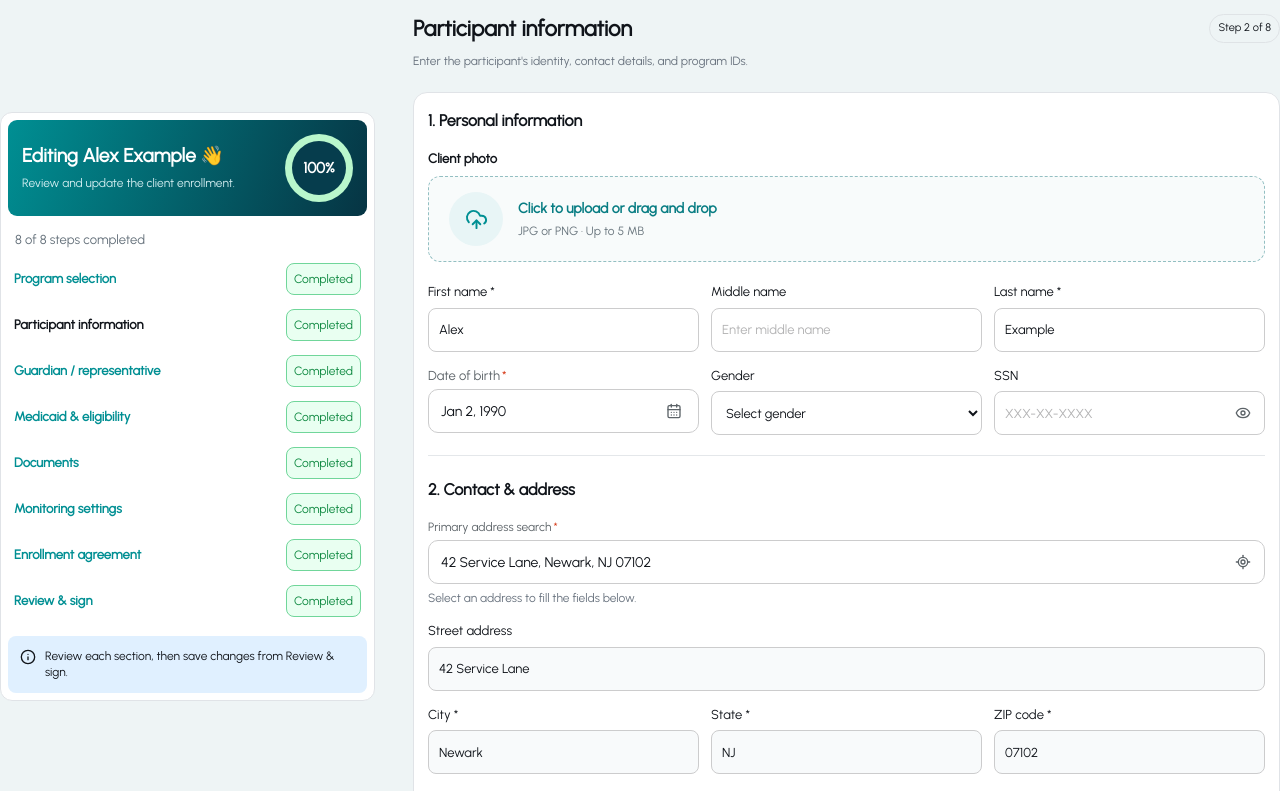
Scenario: edit wizard loads saved fields and preserves outcome services and status
Earlier steps of the test are not shown.
Later steps or results of the test are not shown.
Click the button "Guardian / representative Completed" at x=87, y=370, box [8,348,367,394]
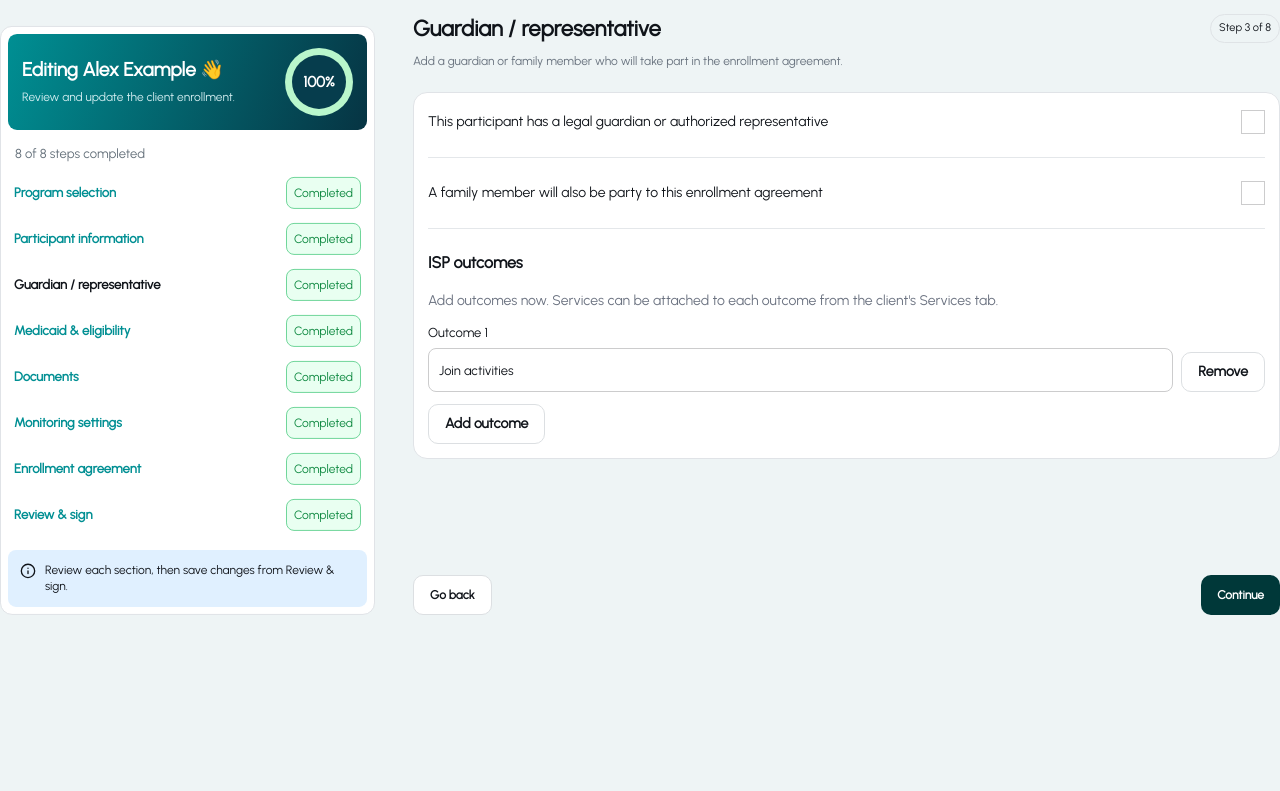
Click the button with aria-label "Remove outcome 1" at x=1223, y=372, box [1181,352,1265,392]
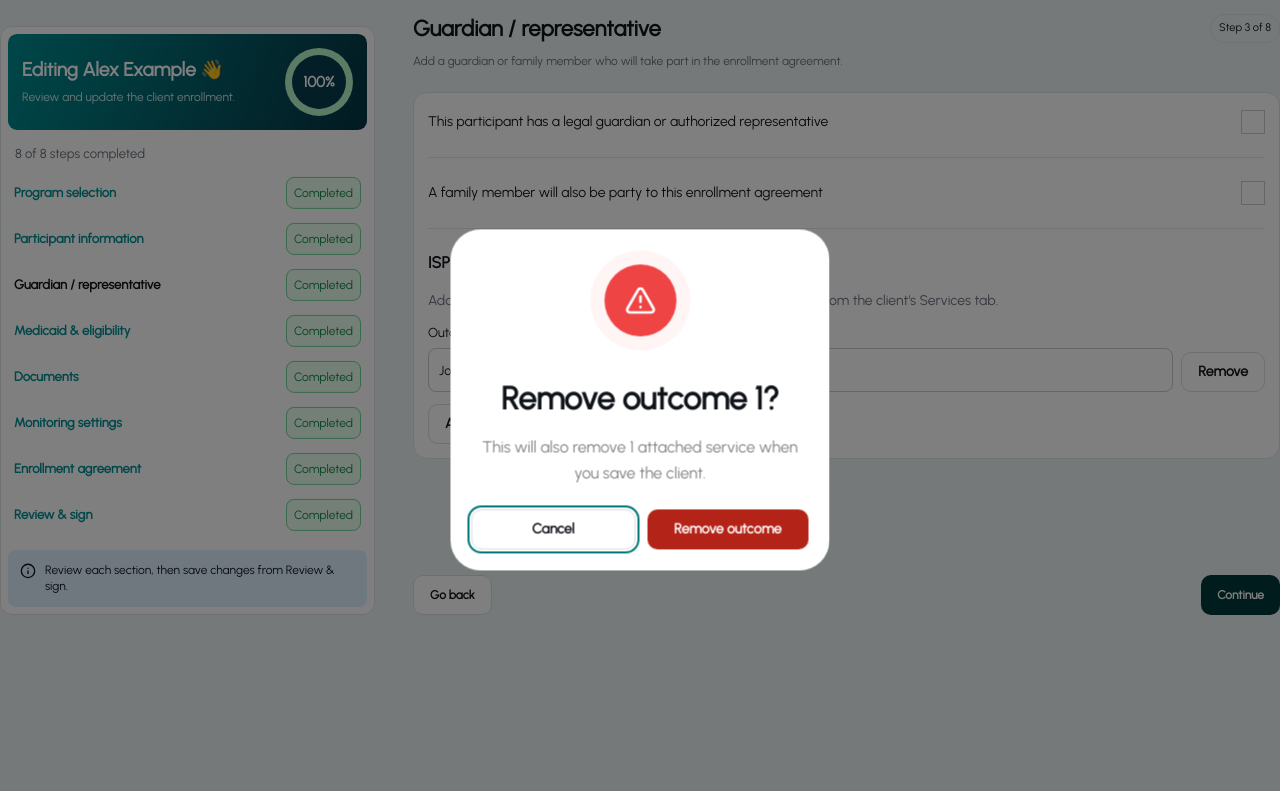
Check: the dialog "Remove outcome 1?" shows "remove 1 attached service", box [482,437,802,482]
Click the button "Cancel" at x=553, y=530, box [472,510,635,550]
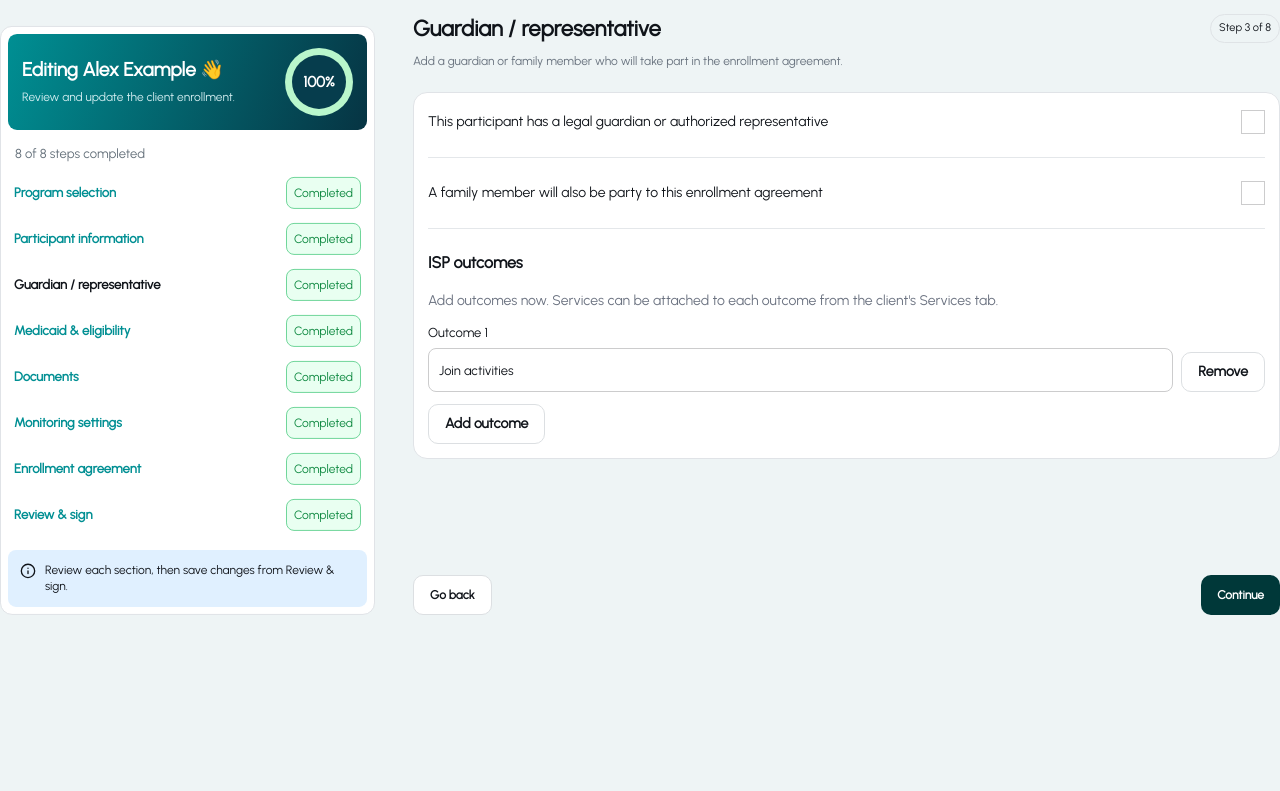
Check: the field labelled "Outcome 1" holds "Join activities"
Clear the field labelled "Outcome 1" at x=801, y=370, box [428,348,1173,392]
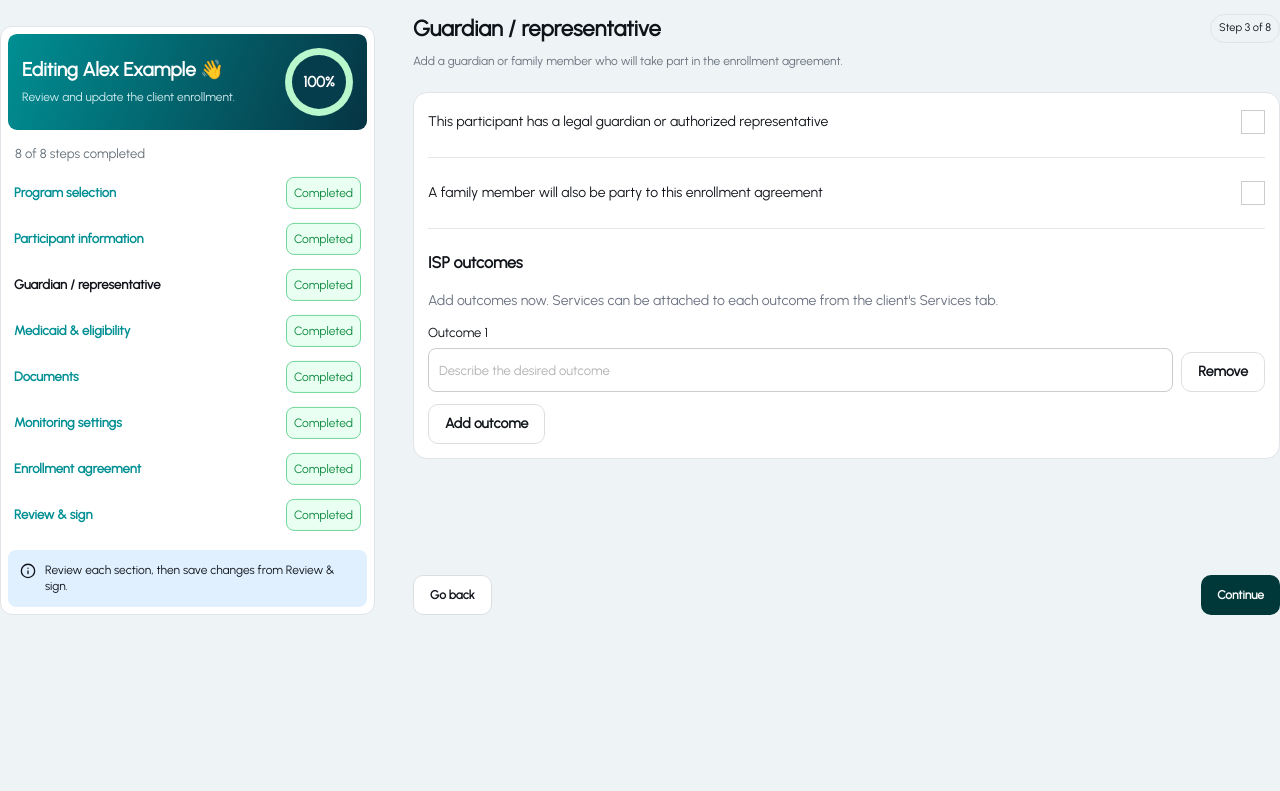
Check: the button with aria-label "Remove outcome 1" is enabled, box [1181,352,1265,392]
Click the button "Review & sign Completed" at x=53, y=514, box [8,491,367,537]
(page scrolled)
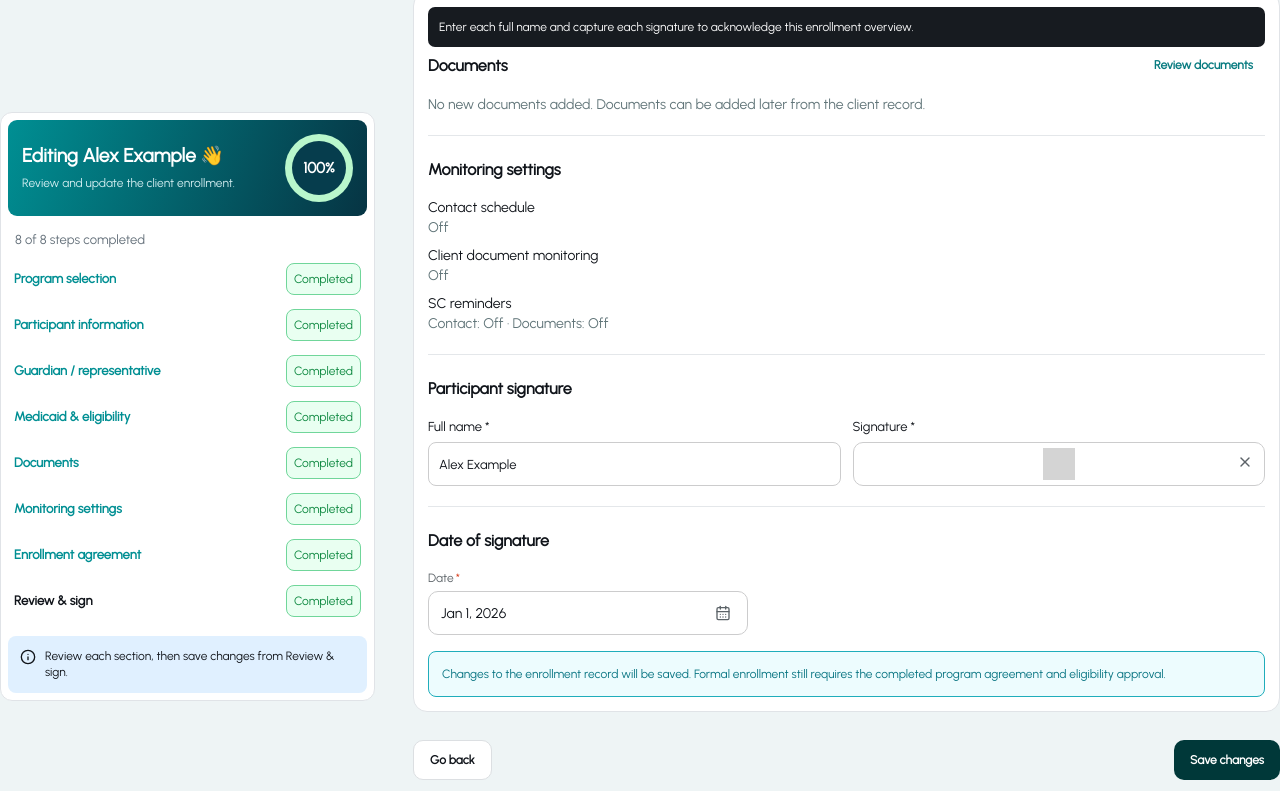
Click the button "Save changes" at x=1227, y=760, box [1174,740,1279,780]
(page scrolled)
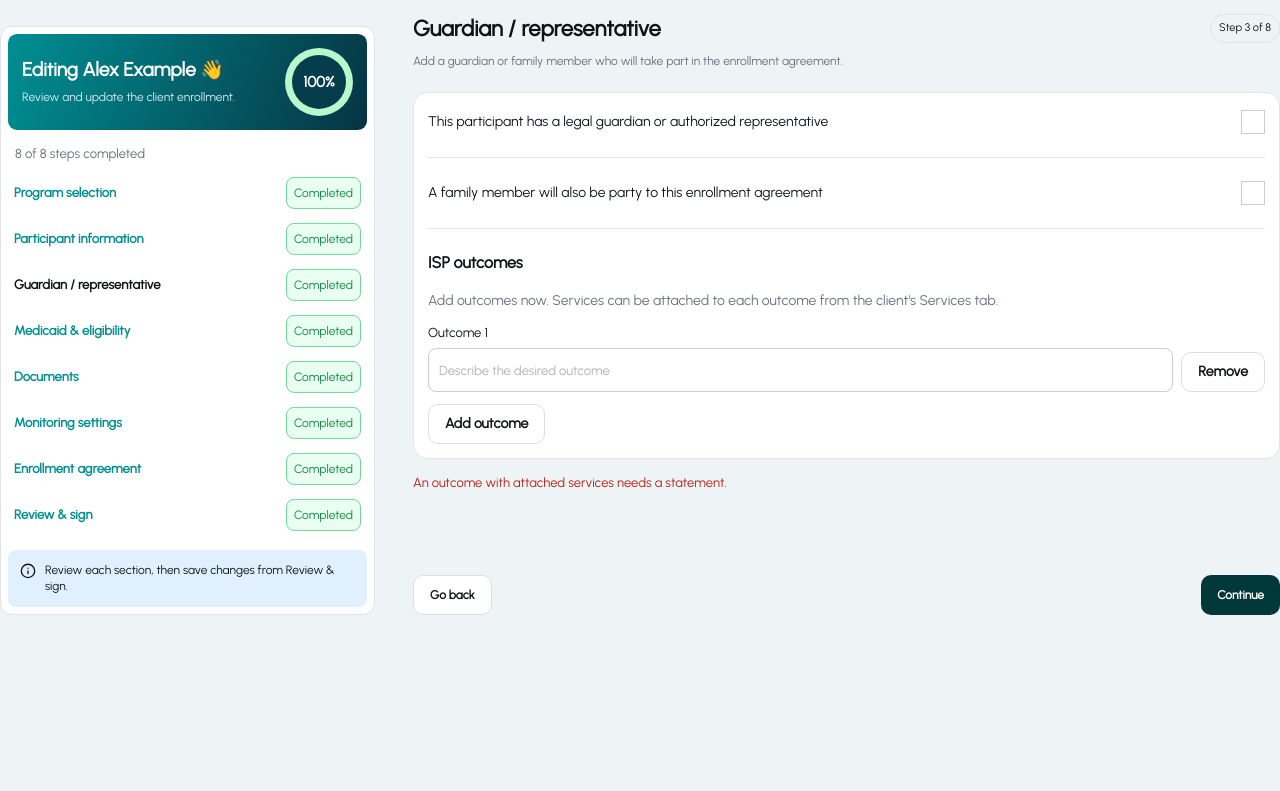
Check: the message reads "An outcome with attached services needs a statement.", box [413,475,727,490]
